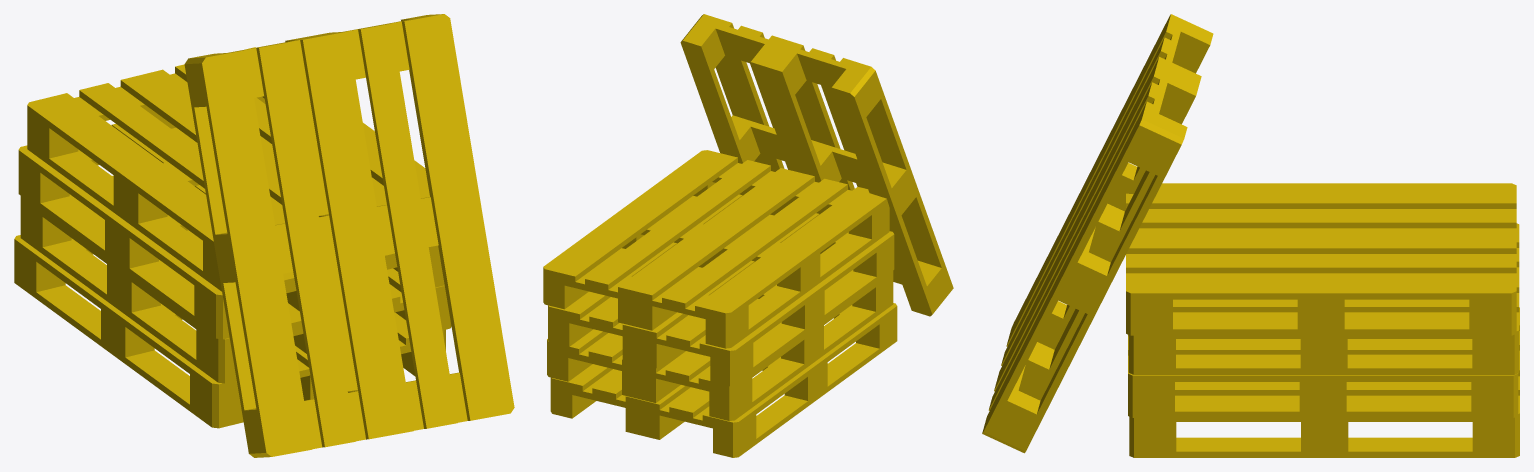
Rendered from paletten.glb.
3 views of the same model, side by side, from view 1: azimuth 30°, elevation 25°; view 2: azimuth 150°, elevation 25°; view 3: azimuth 270°, elevation 25° (orthographic). The views are drawn at different scales.
Visible parts, largest first — view 1: Palette-5, Palette-4, Palette-1, Palette-3, Palette-2; view 2: Palette-4, Palette-5, Palette-3, Palette-1, Palette-2; view 3: Palette-4, Palette-5, Palette-2, Palette-3, Palette-1.
Part boxes in pixels (x1,y1,x2,y2): Palette-5: (184,14,514,457); Palette-4: (27,47,429,291); Palette-1: (14,235,445,428); Palette-3: (18,123,444,339); Palette-2: (20,175,451,383); Palette-4: (543,150,889,348); Palette-5: (680,14,953,316); Palette-3: (548,194,894,386); Palette-1: (550,303,897,457); Palette-2: (547,270,893,420); Palette-4: (1126,183,1516,335); Palette-5: (982,14,1213,453); Palette-2: (1128,334,1518,417); Palette-3: (1128,223,1519,374); Palette-1: (1129,307,1519,457).
Bounding box in the file's own units: 0.0173 × 0.0231 × 0.033.
